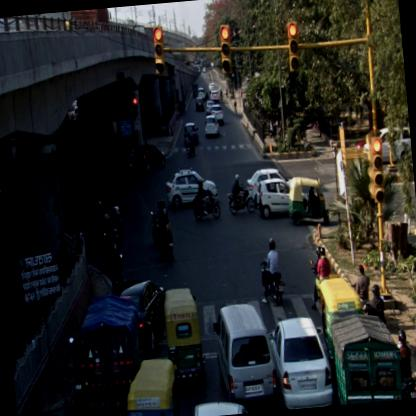car: (212, 300, 276, 410), (268, 315, 336, 410), (115, 275, 171, 358), (164, 165, 218, 210), (254, 176, 296, 217), (252, 168, 293, 203), (183, 398, 257, 415), (134, 142, 167, 172), (204, 114, 221, 138), (183, 121, 199, 146), (212, 105, 223, 122), (194, 98, 204, 113), (206, 102, 214, 115), (210, 90, 218, 102), (199, 88, 205, 100)
motorcycle: (259, 236, 286, 308), (396, 326, 415, 399), (226, 170, 256, 216), (191, 179, 221, 223), (312, 246, 332, 310), (103, 232, 124, 278), (149, 200, 168, 244), (160, 211, 176, 263), (184, 130, 194, 159)
truck: (72, 293, 149, 415), (328, 311, 402, 405)
